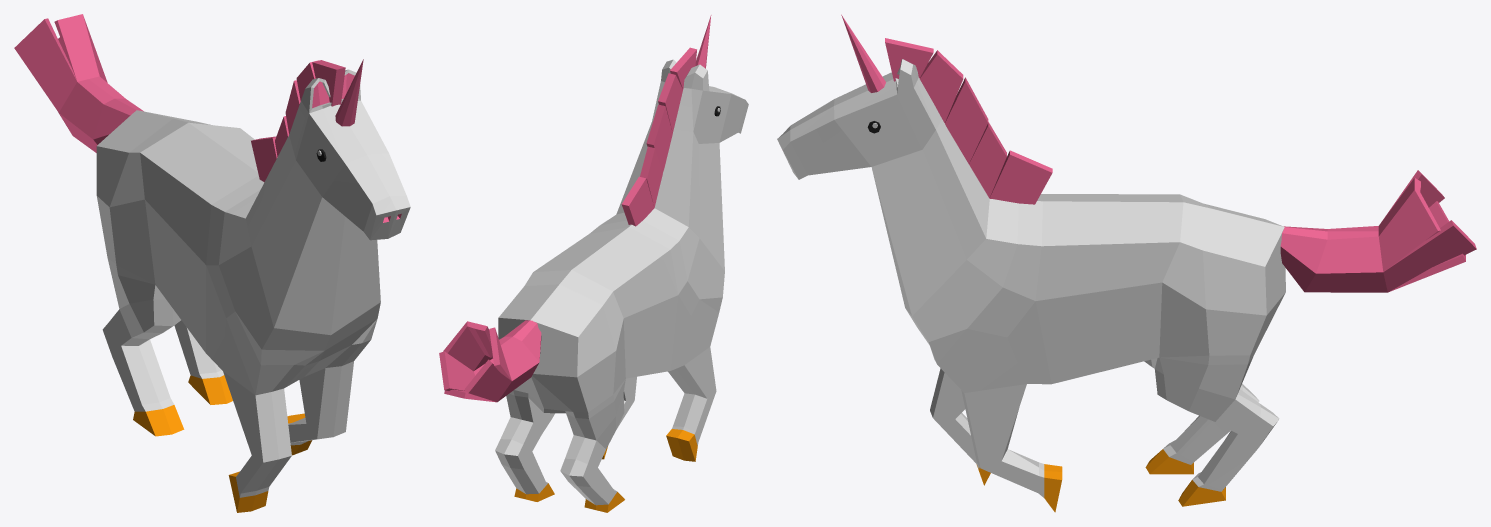
The model's file is Unicorn_01.obj.
3 views of the same model, side by side, from view 1: azimuth 30°, elevation 25°; view 2: azimuth 150°, elevation 25°; view 3: azimuth 270°, elevation 25° (orthographic). The views are drawn at different scales.
Visible parts, largest first — view 1: Unicorn_01_Cube.028_Cube.030; view 2: Unicorn_01_Cube.028_Cube.030; view 3: Unicorn_01_Cube.028_Cube.030.
Part boxes in pixels (x1=…): Unicorn_01_Cube.028_Cube.030: x1=14, y1=14, x2=410, y2=512; Unicorn_01_Cube.028_Cube.030: x1=439, y1=15, x2=748, y2=512; Unicorn_01_Cube.028_Cube.030: x1=777, y1=14, x2=1476, y2=512.
Bounding box in the file's own units: 6.94 × 24.43 × 31.9.
